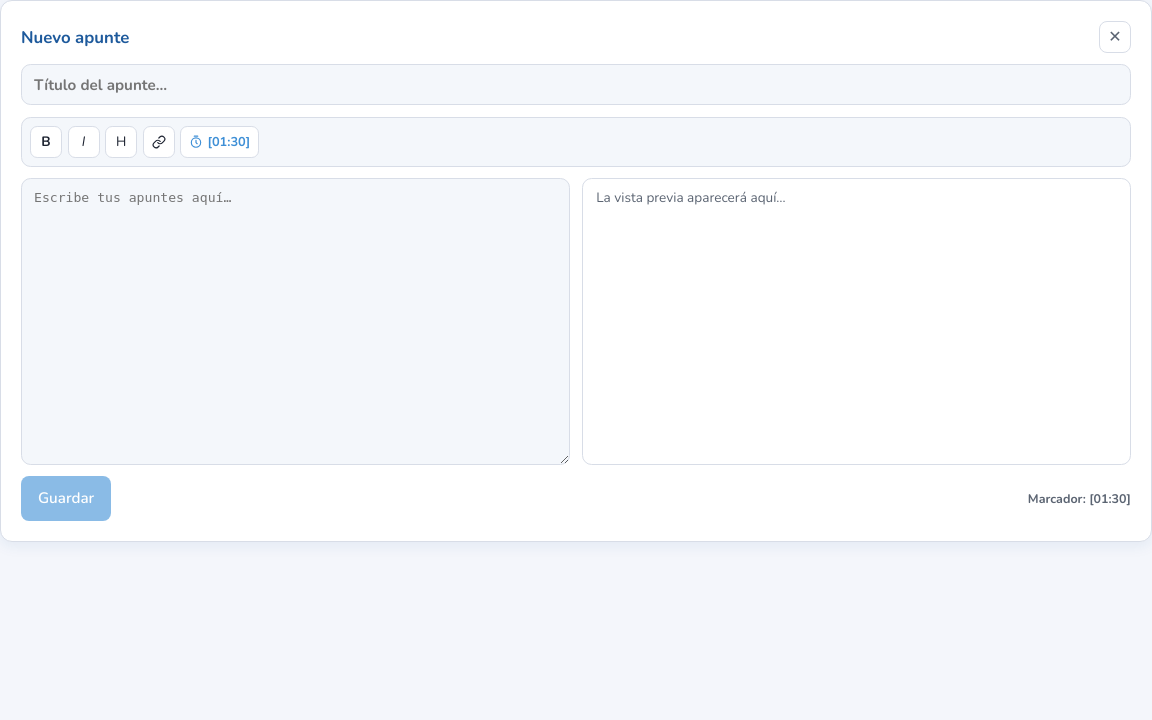
Scenario: ApunteEditor › guarda un apunte nuevo con título limpio, posición entera y token de sesión
In the field with placeholder "Título del apunte…": (576, 85) left=21, top=64, right=1131, bottom=105, type "  Tema Uno  "
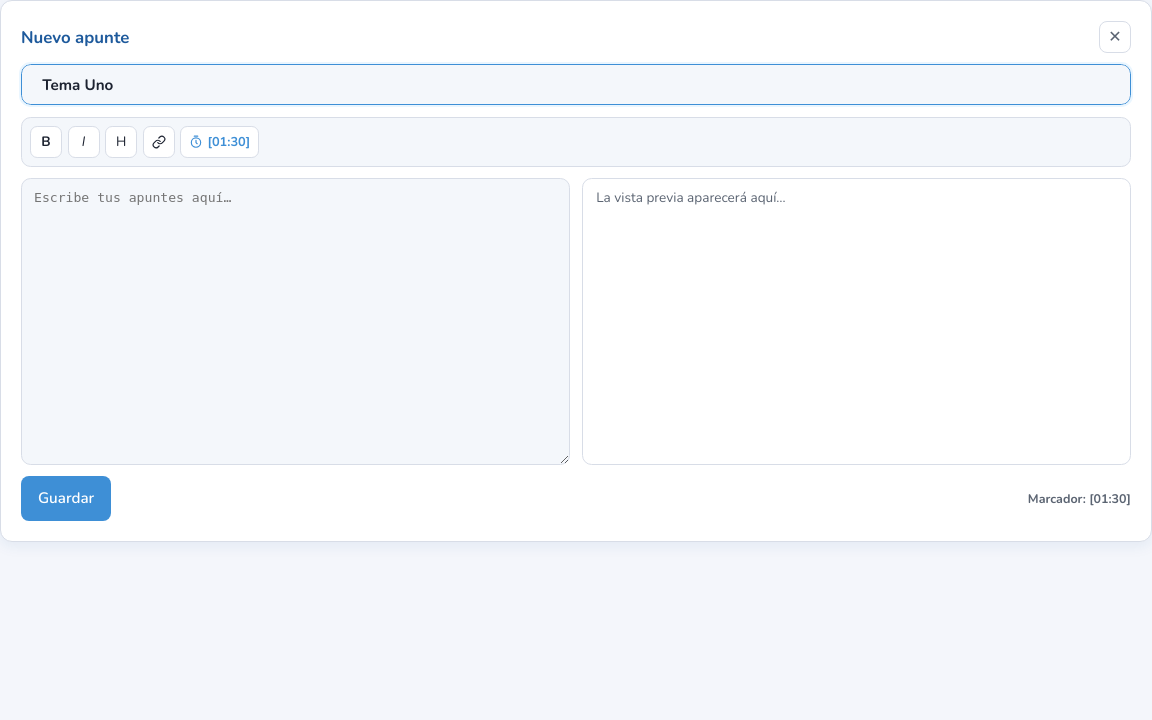
In the text box with placeholder "Escribe tus apuntes aquí…": (296, 321) left=21, top=178, right=570, bottom=465, type "# Contenido"
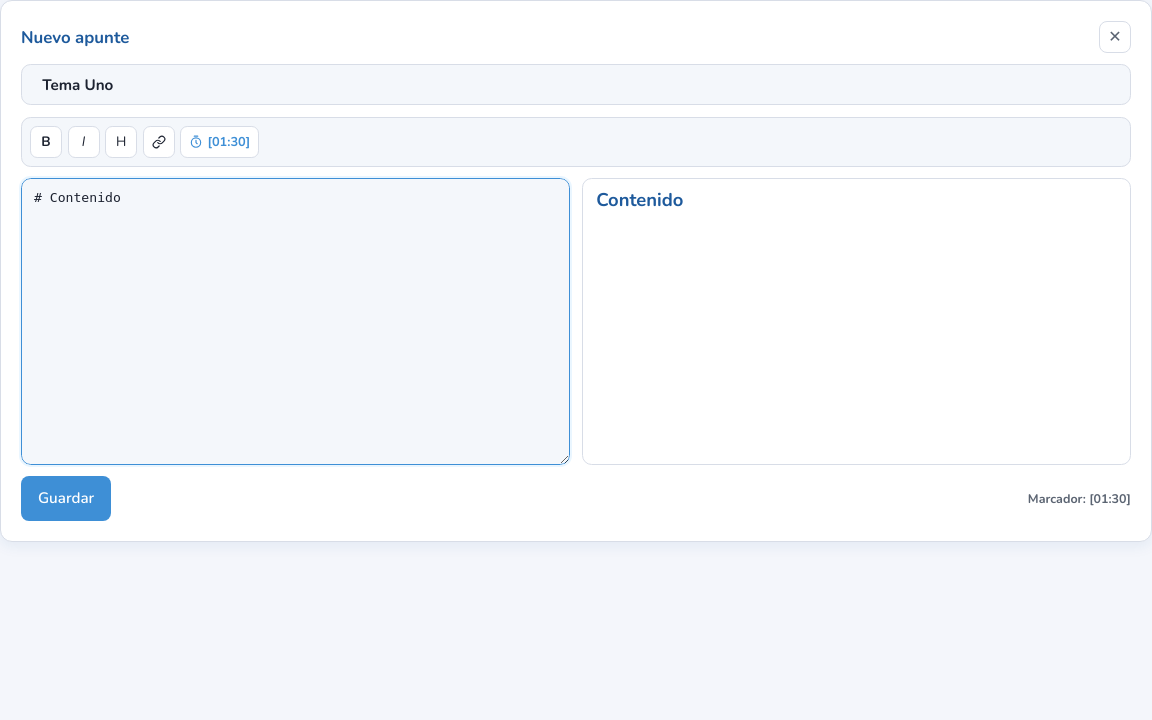
Click the button "Guardar": (66, 498) left=21, top=476, right=111, bottom=520
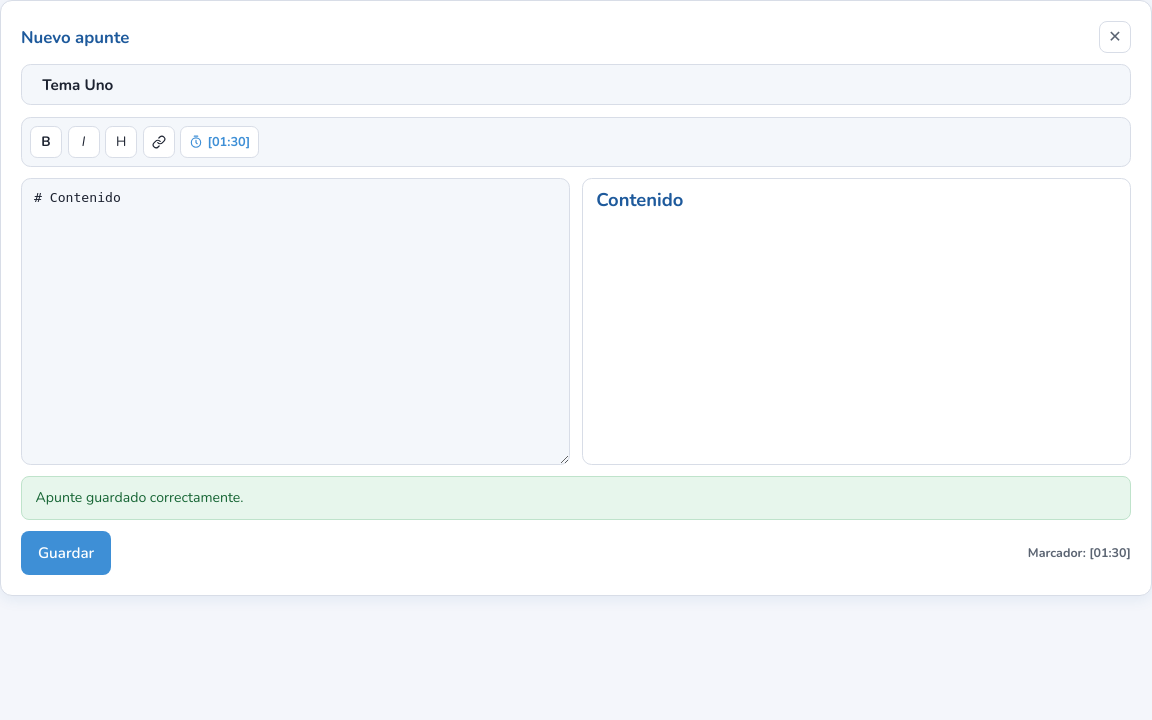
Expected: the message reads "Apunte guardado correctamente.", left=36, top=488, right=244, bottom=507
